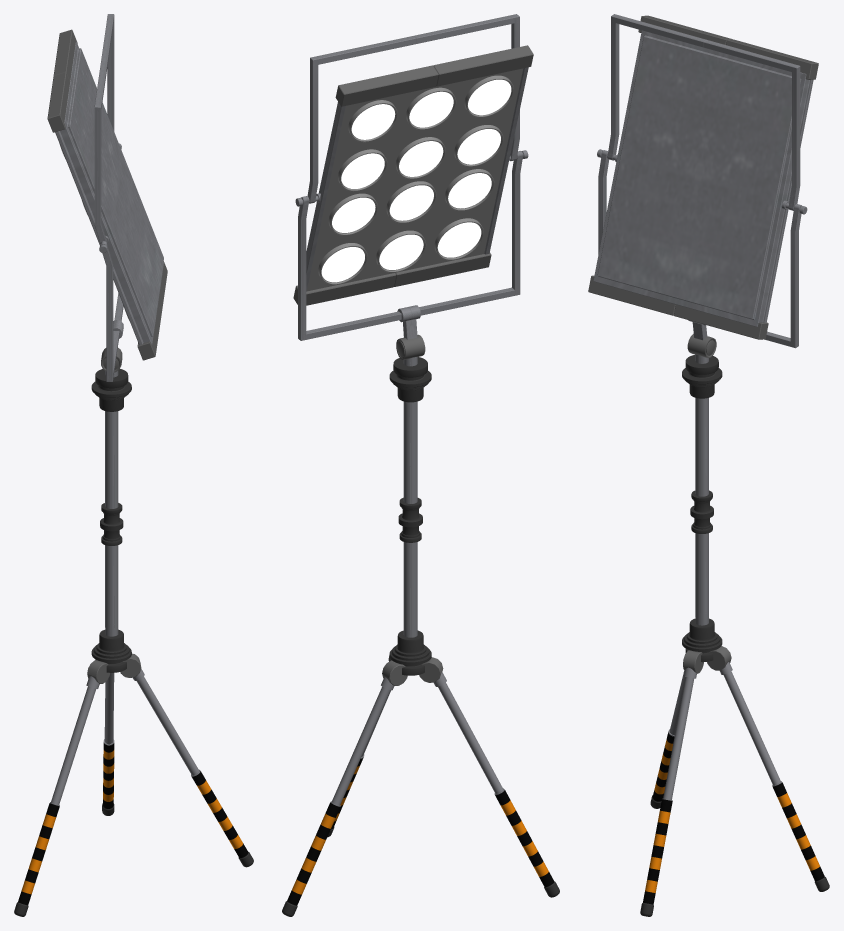
The model's file is light_panel.glb.
3 renders of one model, left to right at view 1: azimuth 30°, elevation 25°; view 2: azimuth 150°, elevation 25°; view 3: azimuth 270°, elevation 25°, orthographic. The views are drawn at different scales.
Visible parts, largest first — view 1: Cube.003_1, Body_2, Cube.002_0; view 2: Cube.003_1, Body_2, Cube.002_0; view 3: Cube.003_1, Body_2, Cube.002_0.
Boxes of the visible parts, left/top/right/bottom form: Cube.003_1: left=47, top=29, right=167, bottom=360; Body_2: left=14, top=347, right=253, bottom=916; Cube.002_0: left=94, top=14, right=123, bottom=381; Cube.003_1: left=293, top=45, right=533, bottom=305; Body_2: left=282, top=334, right=559, bottom=916; Cube.002_0: left=295, top=14, right=528, bottom=340; Cube.003_1: left=588, top=15, right=818, bottom=339; Body_2: left=640, top=334, right=829, bottom=916; Cube.002_0: left=597, top=14, right=807, bottom=348.
Bounding box in the file's own units: 0.4534 × 1.51 × 0.4032.
Materials: 8 (1 with a texture image).
